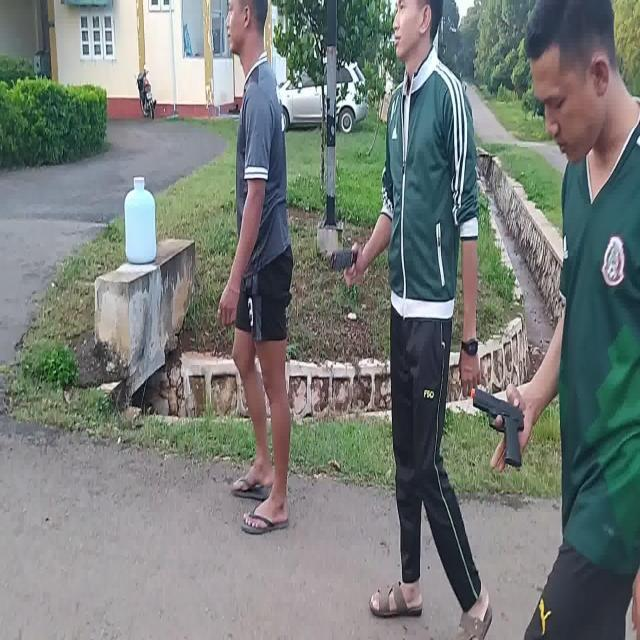gun: (473, 390, 524, 466)
